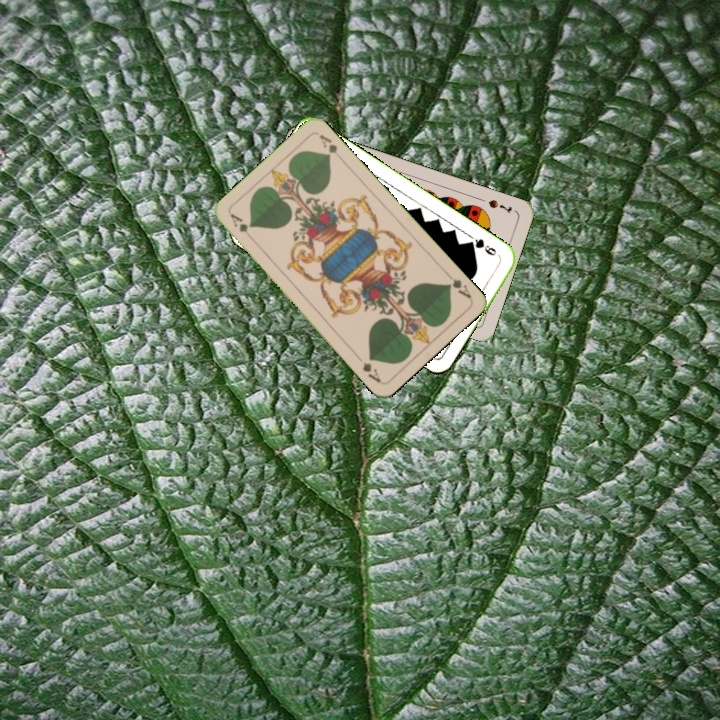G9: (464, 235, 499, 258)
GA: (226, 209, 257, 244), (442, 268, 474, 301)
S7: (484, 195, 514, 216)
